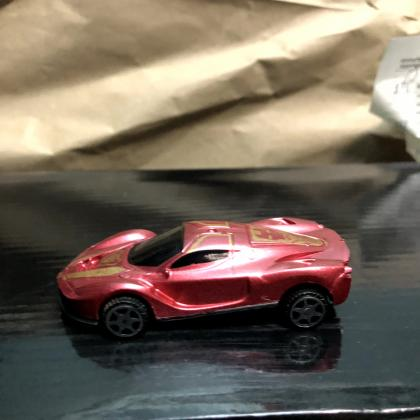Car: (56, 217, 353, 341)
